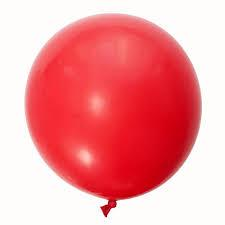red: (23, 13, 202, 218)
